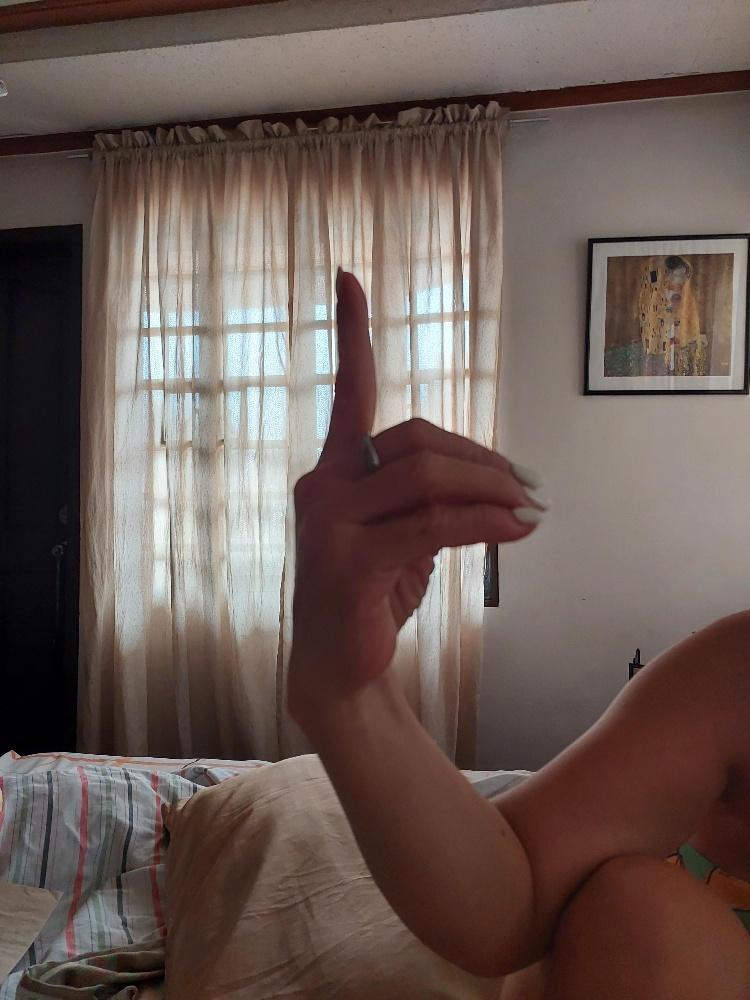d: (285, 261, 553, 693)
